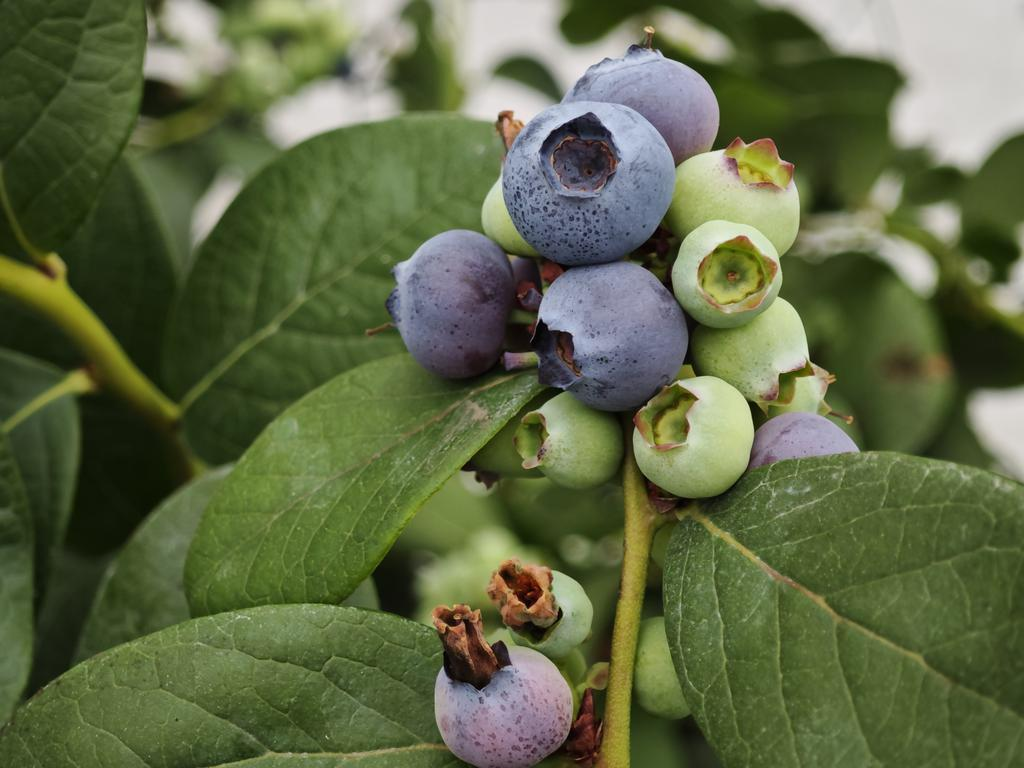RipeBlueBerry: (499, 98, 680, 267), (529, 264, 691, 411), (390, 225, 514, 387)
Semi-RipeBlueBerry: (432, 639, 579, 768)
UnripeBlueBerry: (628, 373, 760, 501)
